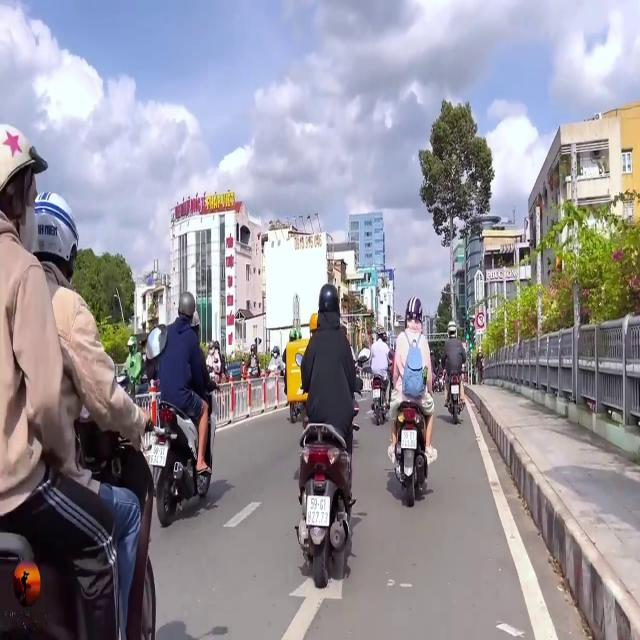bien_trang: (306, 497, 335, 529), (150, 440, 168, 468)
